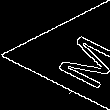M_NW: (35, 23, 110, 87)
